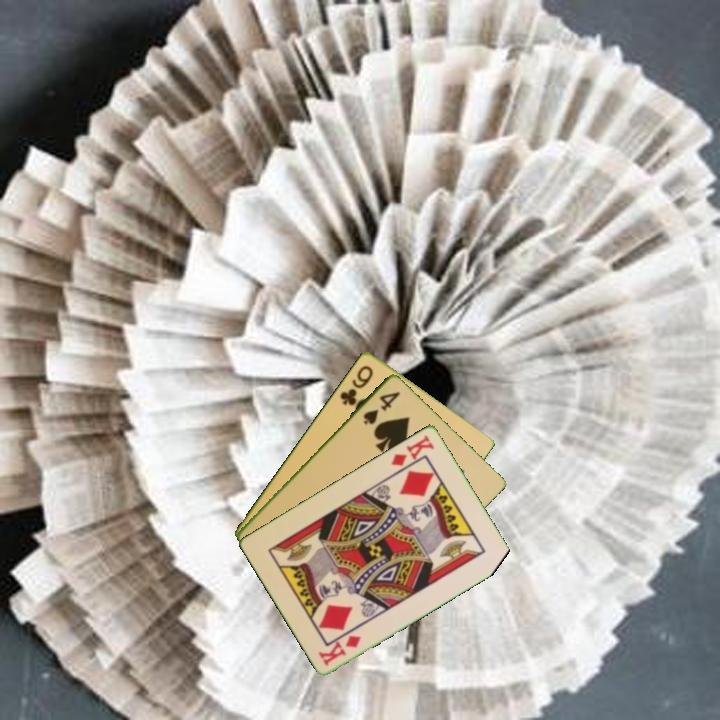4s: (359, 387, 403, 427)
9c: (336, 361, 376, 408)
Kd: (388, 431, 437, 469), (315, 631, 364, 669)
